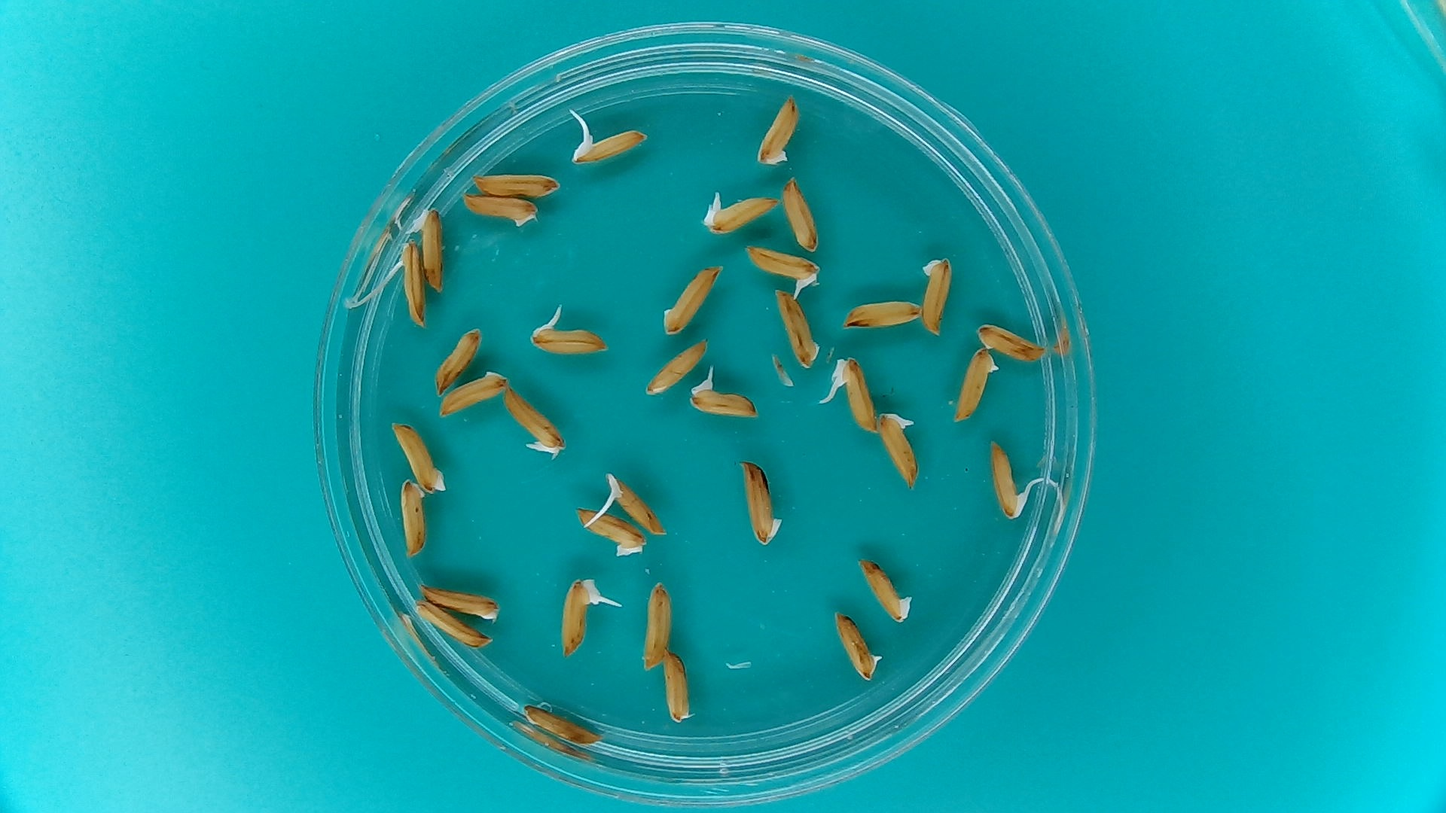no: (658, 261, 724, 338), (391, 419, 450, 494), (411, 599, 494, 650), (739, 457, 786, 547), (772, 286, 822, 370), (572, 503, 647, 556), (644, 336, 709, 397), (519, 701, 604, 746), (753, 91, 801, 168), (432, 324, 482, 396), (438, 367, 508, 418), (654, 645, 698, 725), (416, 583, 501, 623), (779, 174, 820, 254), (639, 580, 674, 671), (459, 190, 540, 228), (470, 167, 562, 200), (917, 254, 953, 338), (975, 320, 1048, 361), (840, 294, 923, 330), (399, 476, 430, 559)
yes: (501, 382, 567, 459), (557, 573, 606, 663), (401, 201, 447, 294), (853, 555, 913, 625), (741, 242, 823, 293), (831, 352, 880, 437), (697, 188, 783, 236), (949, 343, 999, 424), (604, 470, 667, 534), (687, 367, 761, 421), (875, 409, 923, 492), (832, 607, 884, 682), (987, 433, 1030, 522), (388, 236, 426, 329), (563, 128, 650, 166), (526, 321, 614, 358)
